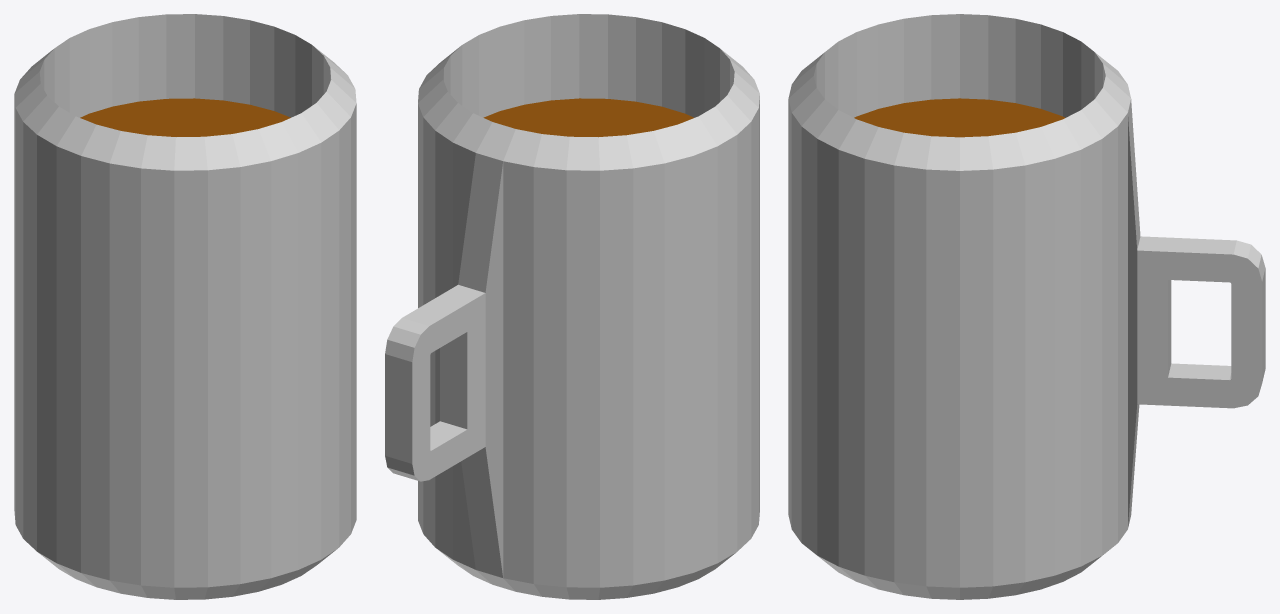
File: Beer3D.glb
3 renders of one model, left to right at view 1: azimuth 30°, elevation 25°; view 2: azimuth 150°, elevation 25°; view 3: azimuth 270°, elevation 25°, orthographic.
Parts seen in each view (by area): view 1: Cylinder; view 2: Cylinder; view 3: Cylinder.
Boxes of the visible parts, <box> form: Cylinder: <box>14,14,356,599</box>; Cylinder: <box>385,14,759,599</box>; Cylinder: <box>788,14,1265,599</box>.
Bounding box in the file's own units: 2 × 2.98 × 2.78.
